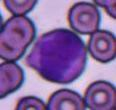M: (28, 28, 86, 84)
